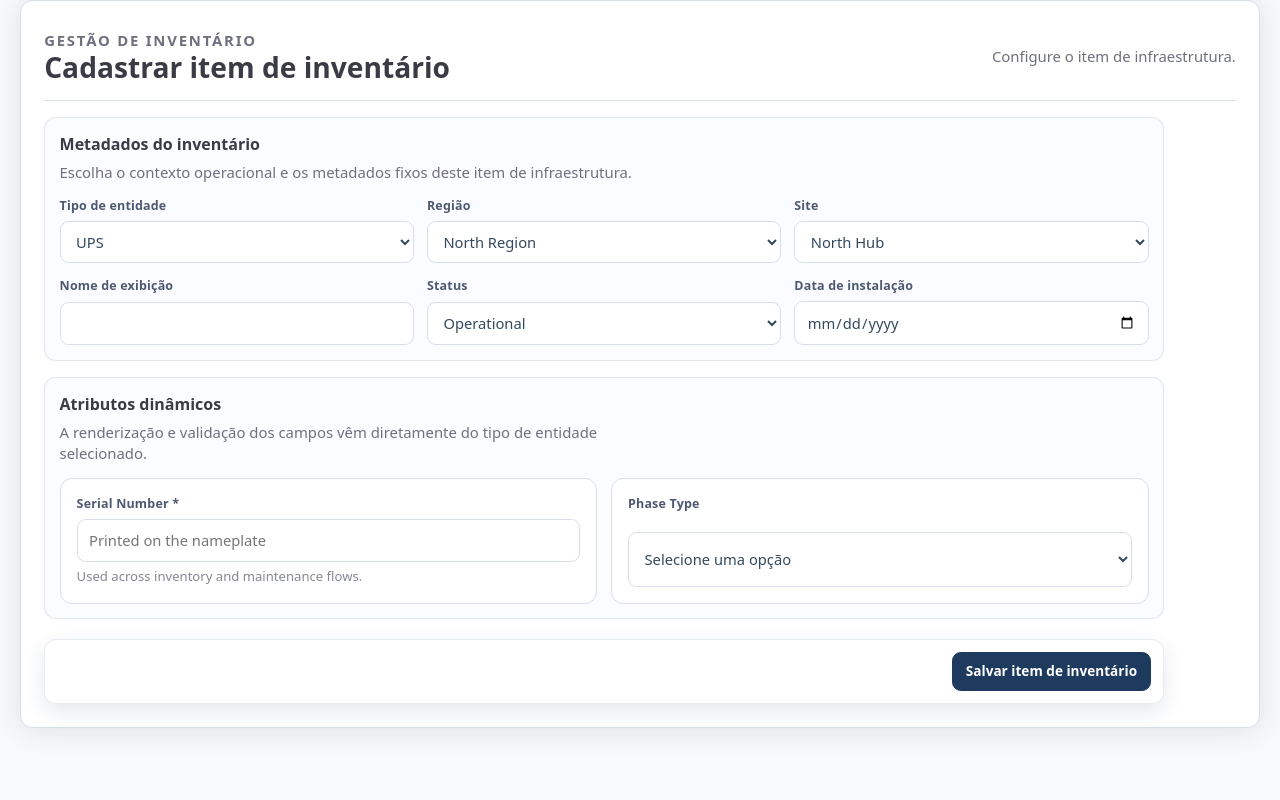
Test case: InventoryItemForm › should localize validation messages when Portuguese is selected
Click the button "Salvar item de inventário" at (1051, 672), box [952,652,1151,691]
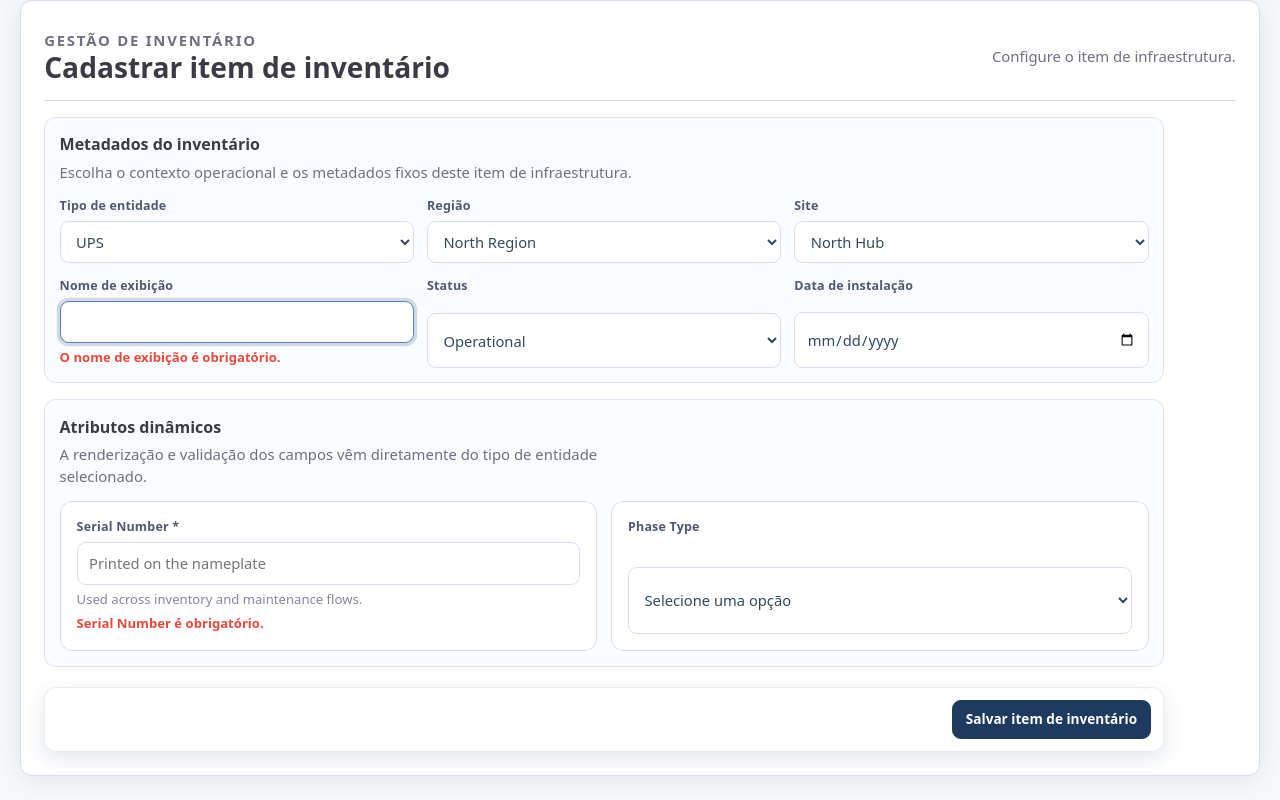
Now the text "O nome de exibição é obrigatório." is shown, box [60,348,280,366]
Now the text "Serial Number é obrigatório." is shown, box [77,614,264,632]
